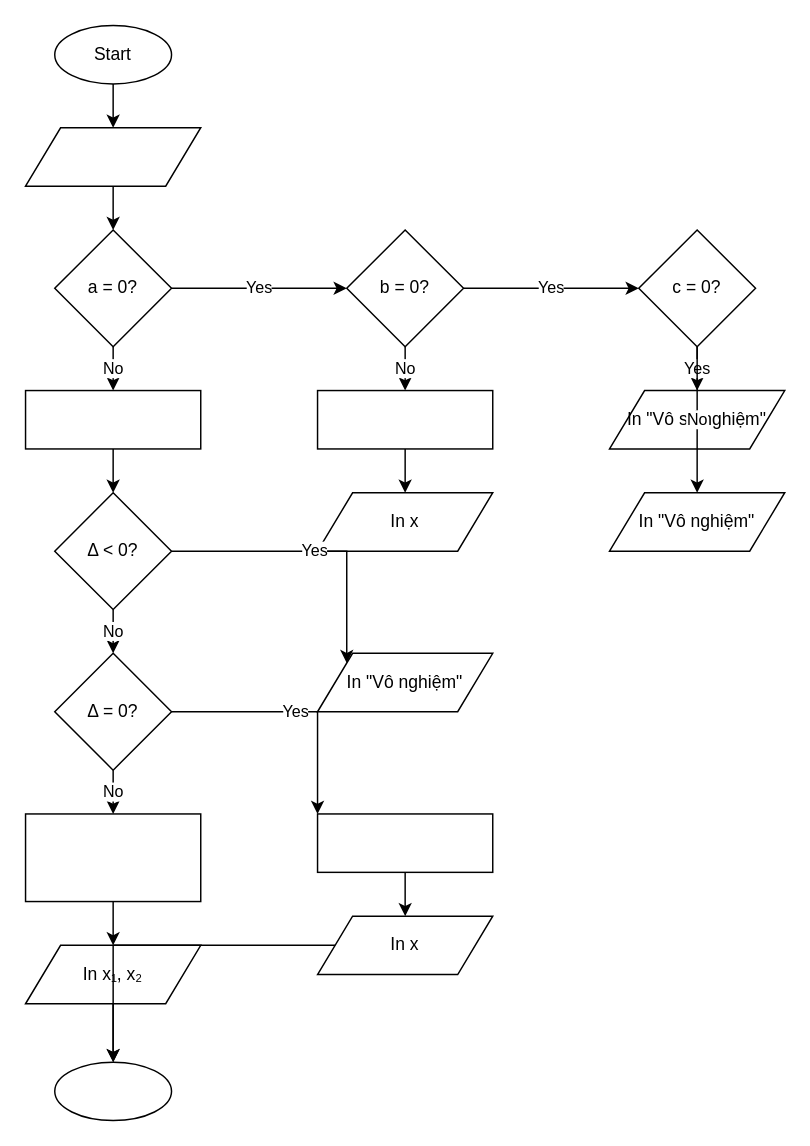
The diagram is 810 pixels wide and 1146 high, and some of its shapes have lost their labels. Here are the shapes that lost their labels. From the top down, the box of each, then its label:
(24, 126, 201, 186): Nhập a, b, c
(24, 389, 201, 449): Δ = b² - 4ac
(316, 389, 493, 449): x = -c / b
(24, 812, 201, 902): x₁ = (-b + √Δ) / (2a)\nx₂ = (-b - √Δ) / (2a)
(316, 812, 493, 872): x = -b / (2a)
(53, 1061, 172, 1121): End
